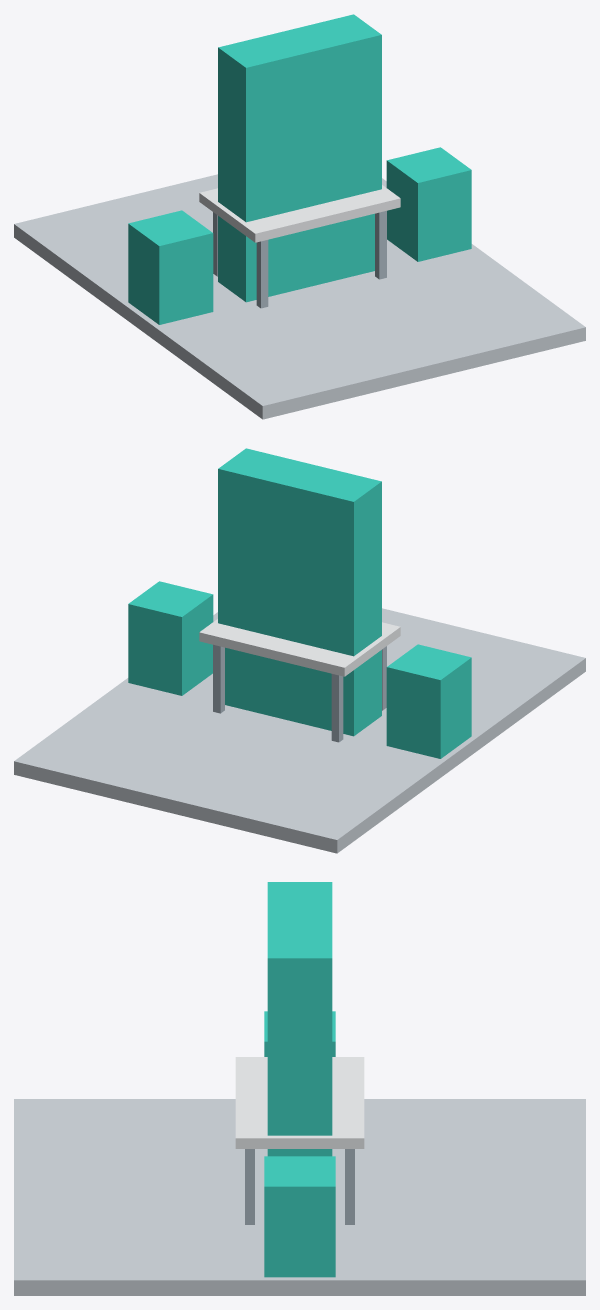
3 renders of one model, top to bottom at view 1: azimuth 30°, elevation 25°; view 2: azimuth 150°, elevation 25°; view 3: azimuth 270°, elevation 25°, orthographic. The views are drawn at different scales.
Visible parts, largest first — view 1: Exhibition Booth Concept; view 2: Exhibition Booth Concept; view 3: Exhibition Booth Concept.
Part boxes in pixels (x1,y1,x2,y2): Exhibition Booth Concept: [14, 14, 585, 419]; Exhibition Booth Concept: [14, 448, 585, 853]; Exhibition Booth Concept: [14, 882, 585, 1295].
Size of the model in its own units: 3 by 2.2 by 4.
